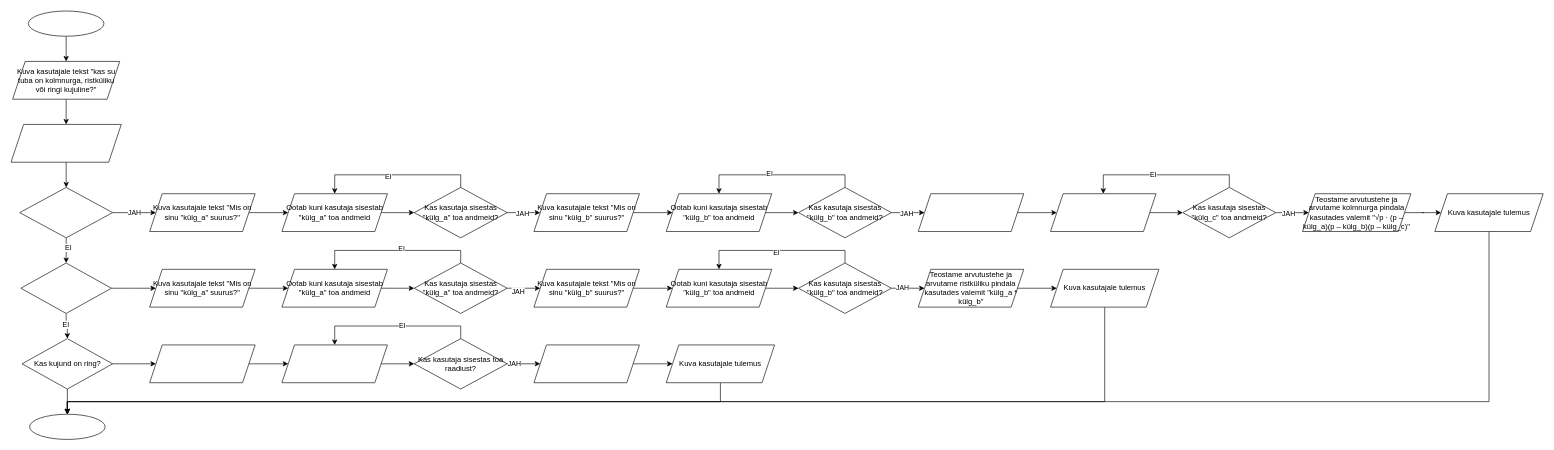
This 1554x450 diagram has some shape labels left out. Here are the shapes that lost their labels. From the top down, the centre of each, then its label:
the point at 66,23: Algus
the point at 65,143: Programm ootab kasutaja poolt sisestatud kujundi
the point at 66,212: Kas kujund on kolmnurk?
the point at 971,212: Kuva kasutajale tekst "Mis on sinu "külg_c" suurus?"
the point at 1103,212: Ootab kuni kasutaja sisestab "külg_c" toa andmeid
the point at 65,287: Kas kujund on ristkülik?
the point at 202,363: Kuva kasutajale tekst "Mis on sinu toa raadius?"
the point at 334,363: Ootab kuni kasutaja sisestab toa raadiust
the point at 586,363: Teostame arvutustehe ja arvutame ringi pindala kasutades valemit " π · r 2 "
the point at 67,426: Lõpp
